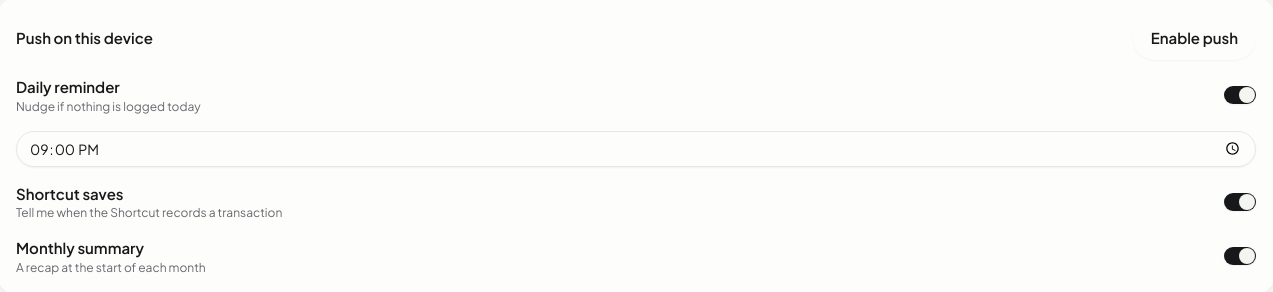
NotificationSettings › reverts the time when saving fails
Replace the text in the time field named "Reminder time" with "20:30" at (636, 148), box [16,130,1256,166]
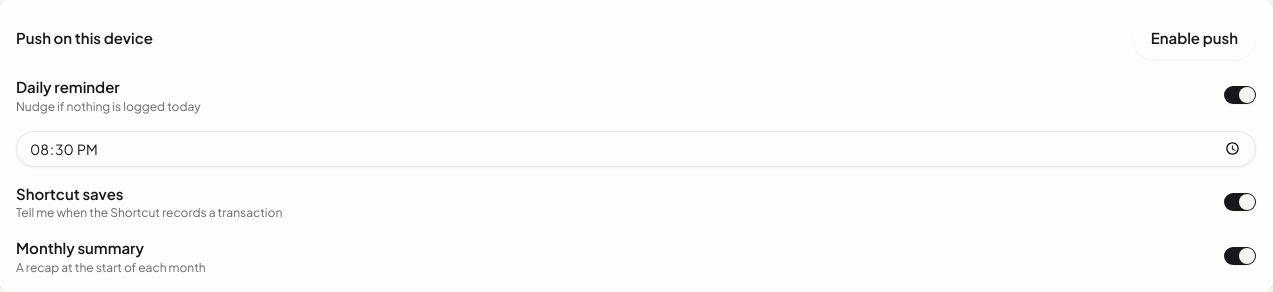
Leave the time field named "Reminder time", box [16,130,1256,166]
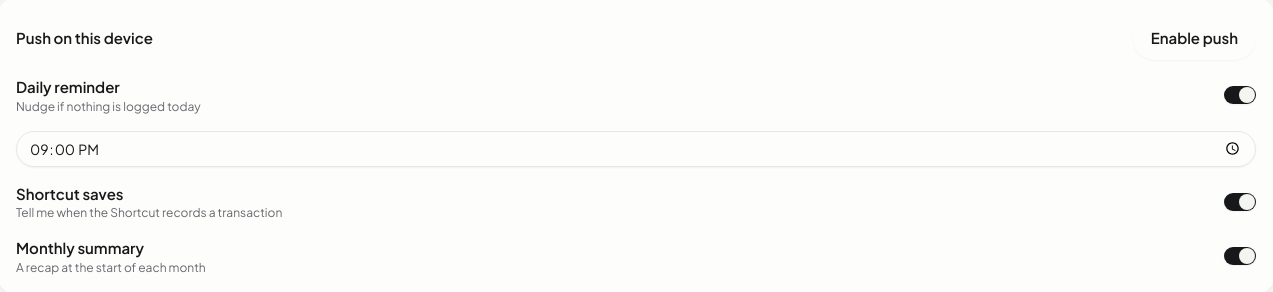
Check: the time field named "Reminder time" holds "21:00", box [16,130,1256,166]
